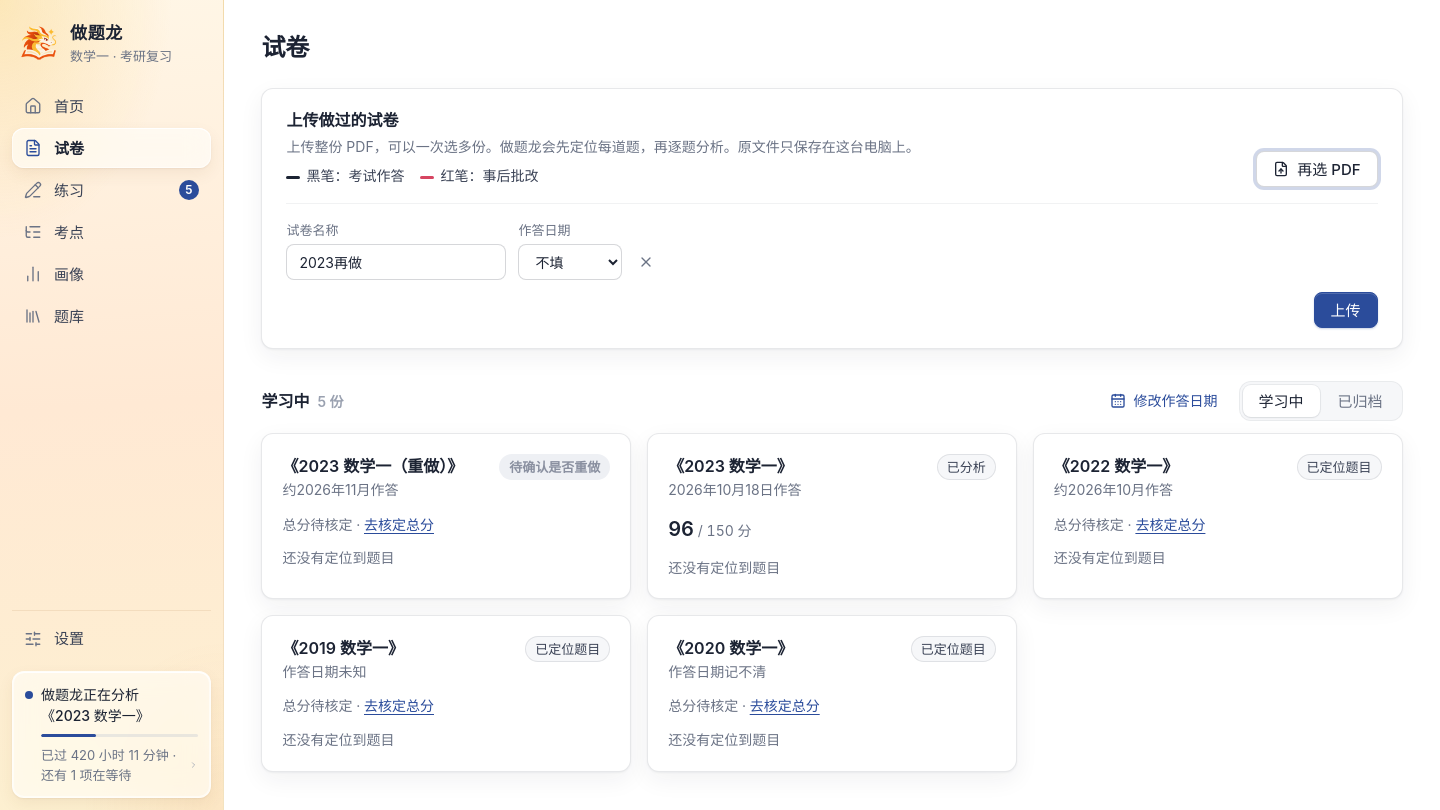
Test: asks whether a same-exam upload is a retake and sends the decision
Earlier steps of the test are not shown.
Later steps or results of the test are not shown.
Step 1. Click the button "上传" → (1346, 310), box [1314, 292, 1378, 328]
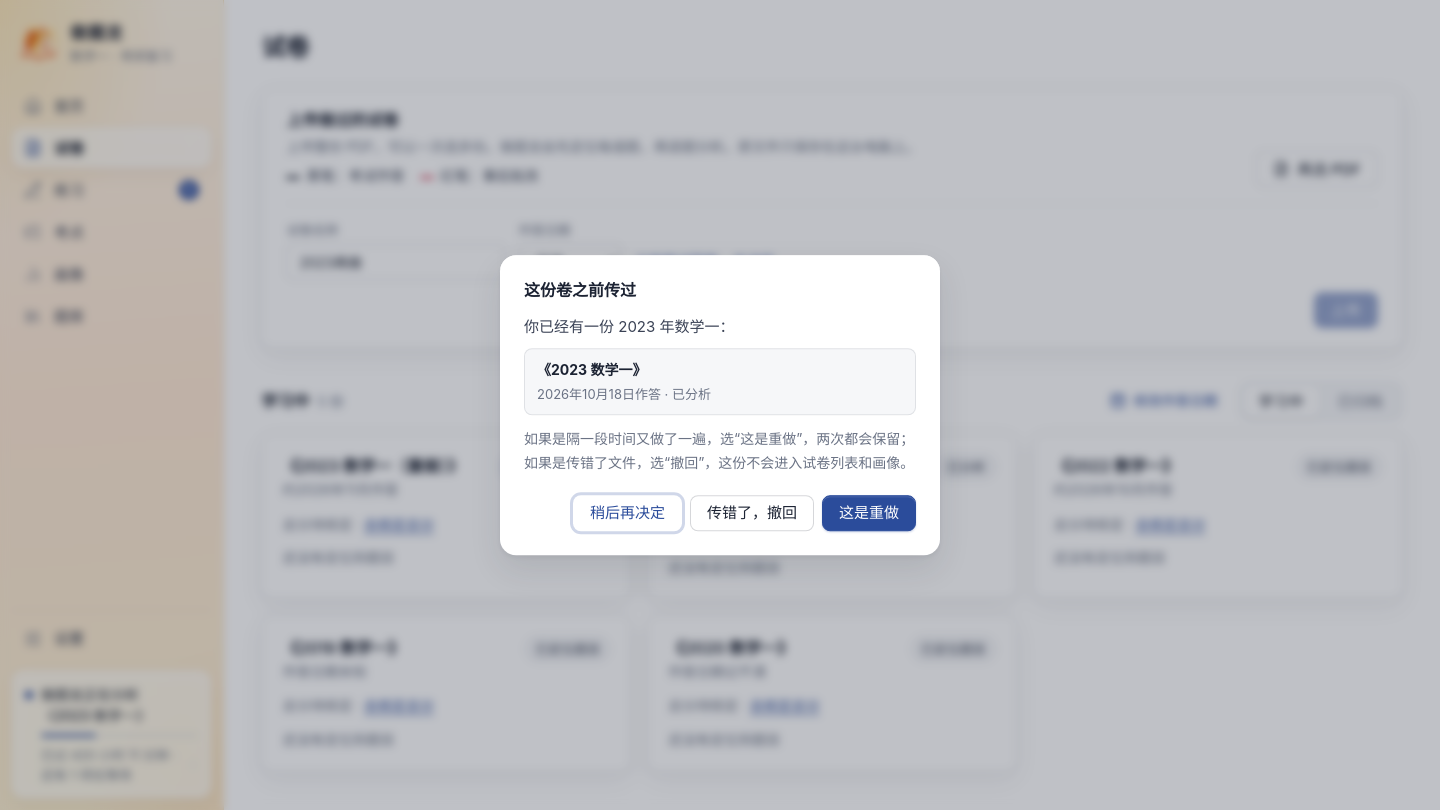
Check: the dialog "这份卷之前传过" shows "2023 年数学一", box [614, 318, 734, 337]
Check: the dialog "这份卷之前传过" shows "2026年10月18日作答 · 已分析", box [500, 255, 940, 555]
